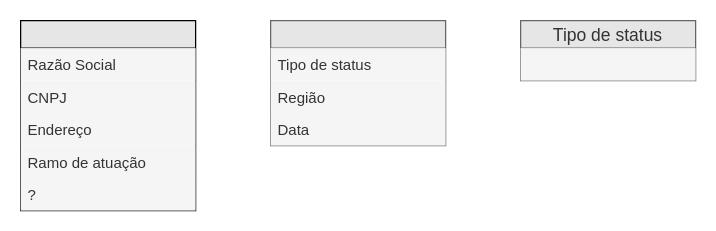
This 716x231 diagram has some shape labels left out. Here are the shapes that lost their labels. From the top down, the box of each, then its label:
(269, 19, 446, 146): Caso
(520, 48, 695, 80): Título
(19, 19, 196, 211): Empresa
